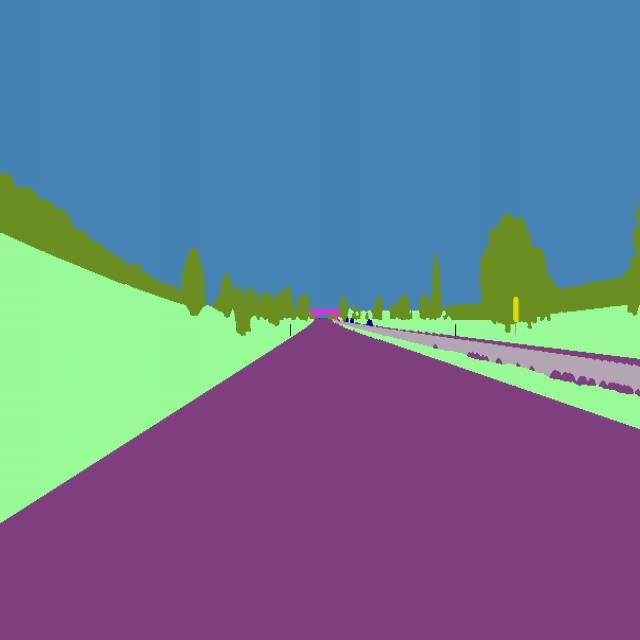safe: (366, 318, 374, 326), (350, 317, 356, 324)
